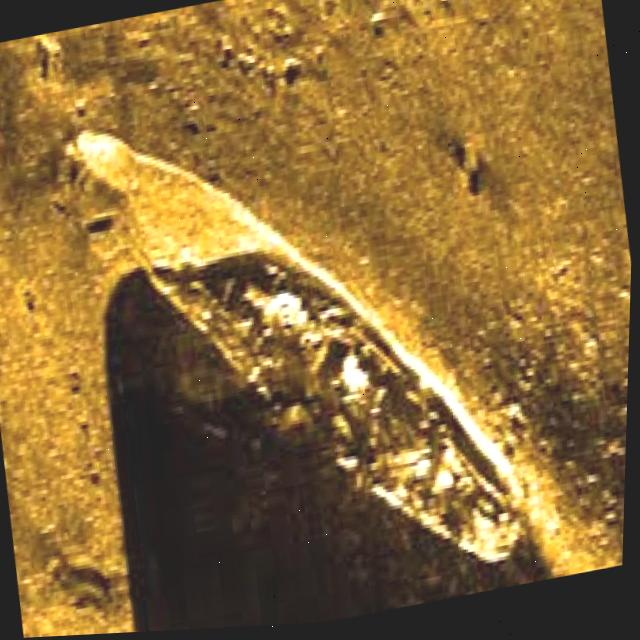shipwreck: (57, 60, 550, 637)
